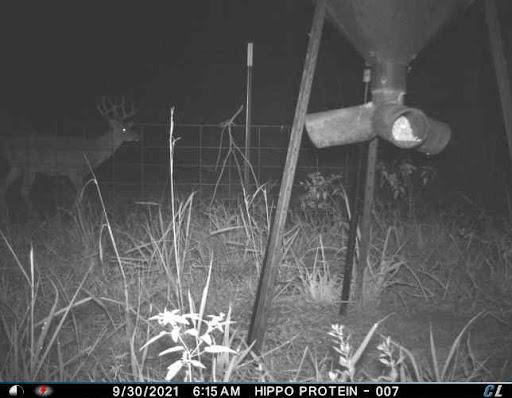Deer: (4, 85, 148, 220)
